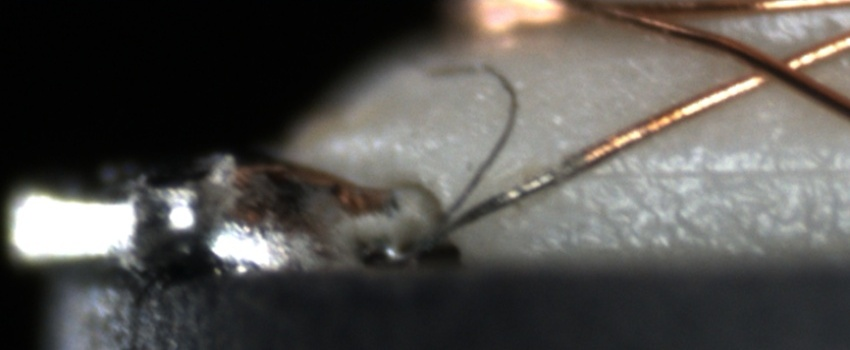CL: (726, 40, 820, 97)
DL: (568, 144, 850, 208)
TS: (384, 156, 579, 259)
TTCW: (387, 136, 614, 263)
